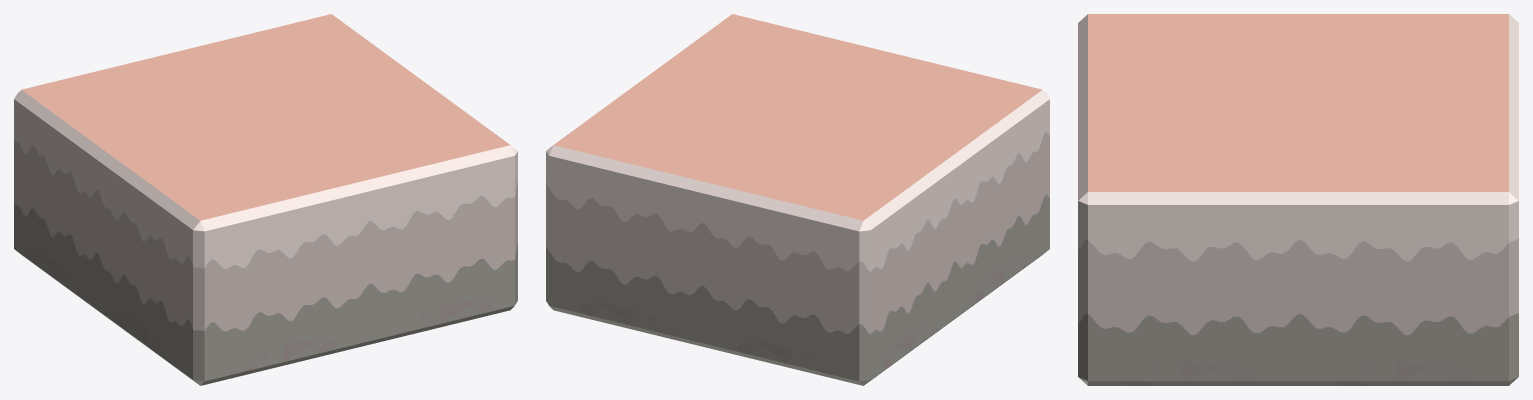
Rendered from R4B_Slab2x2_LOD1.glb.
3 renders of one model, left to right at view 1: azimuth 30°, elevation 25°; view 2: azimuth 150°, elevation 25°; view 3: azimuth 270°, elevation 25°, orthographic. The views are drawn at different scales.
Parts seen in each view (by area): view 1: R4B_Slab2x2_LOD1; view 2: R4B_Slab2x2_LOD1; view 3: R4B_Slab2x2_LOD1.
Part boxes in pixels (left/top/right/bottom): R4B_Slab2x2_LOD1: left=14, top=14, right=517, bottom=385; R4B_Slab2x2_LOD1: left=546, top=14, right=1049, bottom=385; R4B_Slab2x2_LOD1: left=1078, top=14, right=1518, bottom=385.
Size of the model in its own units: 1.07 by 0.52 by 1.07.
Materials: 2 (2 with a texture image).
